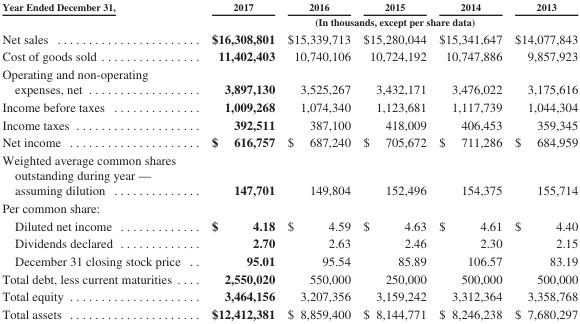table: (1, 0, 577, 320)
table column: (1, 0, 195, 320), (195, 0, 280, 320), (280, 0, 356, 320), (356, 0, 432, 320), (432, 0, 507, 320), (507, 0, 577, 320)
table column header: (1, 0, 577, 29)
table projected row header: (1, 198, 577, 216)
table row: (1, 150, 577, 198), (1, 64, 577, 97), (1, 29, 577, 47), (1, 97, 577, 115), (1, 132, 577, 150), (1, 198, 577, 216), (1, 233, 577, 251), (1, 251, 577, 269), (1, 286, 577, 304), (1, 47, 577, 64), (1, 115, 577, 132), (1, 216, 577, 233), (1, 269, 577, 286), (1, 13, 577, 29), (1, 304, 577, 320), (1, 0, 577, 13)
table spanning cell: (195, 13, 577, 29), (1, 0, 195, 29)
